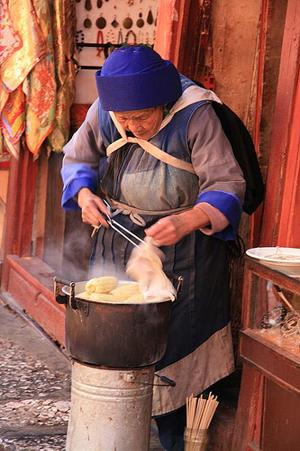person: (62, 49, 247, 451)
